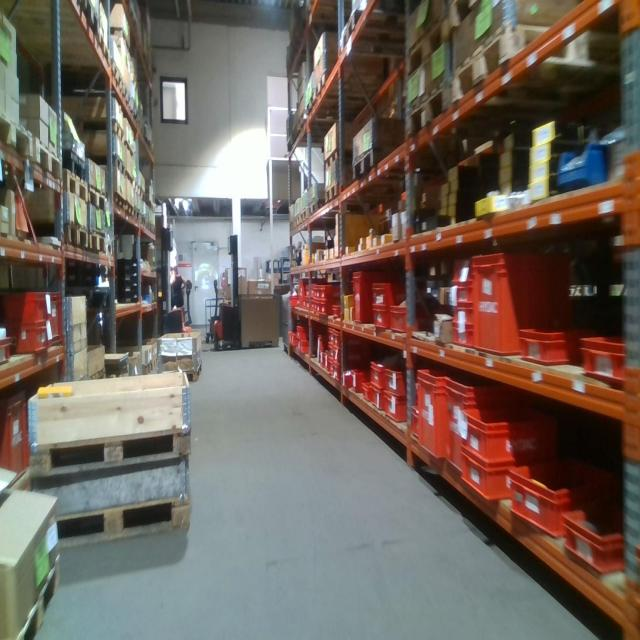pallet: (453, 18, 625, 115), (29, 422, 192, 476), (58, 493, 190, 547), (330, 14, 410, 54), (408, 77, 449, 146), (411, 13, 448, 78), (314, 71, 377, 103), (353, 146, 397, 189), (449, 0, 504, 34), (28, 220, 89, 249), (56, 2, 98, 38), (34, 133, 62, 185), (2, 111, 32, 158), (87, 20, 112, 65), (65, 168, 90, 206), (323, 147, 355, 174), (76, 123, 126, 140), (102, 59, 125, 94), (87, 155, 125, 176), (86, 227, 110, 258), (325, 181, 352, 205), (90, 187, 109, 215), (303, 94, 323, 119), (184, 361, 203, 381), (310, 199, 324, 216), (124, 201, 134, 223), (139, 361, 154, 375), (300, 206, 308, 224), (115, 197, 126, 210), (123, 176, 133, 189), (295, 210, 300, 232)
pallet_truck: (158, 227, 200, 351), (211, 229, 245, 359)
small_load_carrier: (473, 251, 569, 362), (446, 372, 528, 468), (509, 455, 598, 537), (455, 402, 559, 465), (561, 505, 628, 571), (417, 368, 460, 458), (0, 385, 34, 487), (519, 321, 585, 370), (457, 446, 520, 497), (576, 320, 626, 378), (352, 267, 390, 330), (1, 286, 51, 327), (14, 319, 52, 355), (44, 290, 63, 350), (384, 367, 416, 396), (386, 301, 418, 330), (371, 280, 403, 305), (453, 253, 480, 282), (371, 302, 391, 338), (384, 396, 414, 419), (452, 326, 476, 354), (369, 360, 391, 387), (453, 282, 477, 305), (451, 305, 477, 326), (351, 367, 369, 396), (1, 333, 13, 367), (373, 385, 388, 411), (411, 402, 420, 440), (319, 285, 337, 301), (367, 377, 375, 404), (334, 347, 342, 365), (335, 326, 341, 349), (332, 303, 340, 320), (335, 364, 342, 381), (329, 359, 336, 374), (336, 304, 342, 321), (319, 306, 327, 318), (329, 328, 334, 343), (329, 345, 334, 359)
